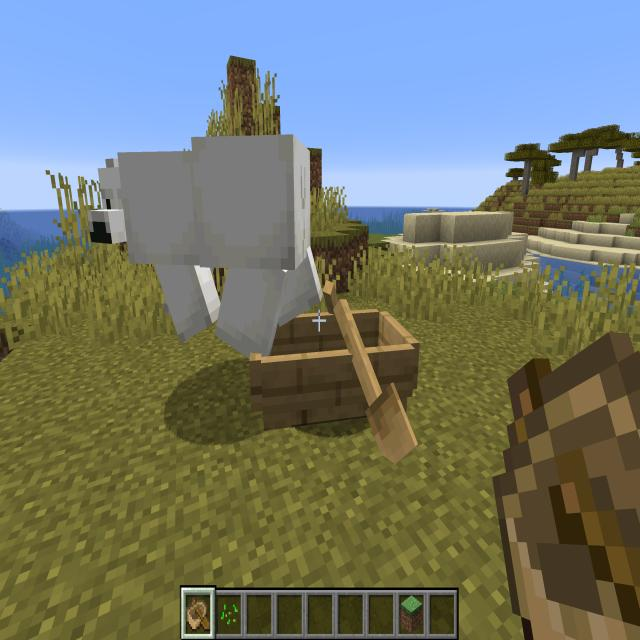Polar Bear: (84, 134, 324, 364)
